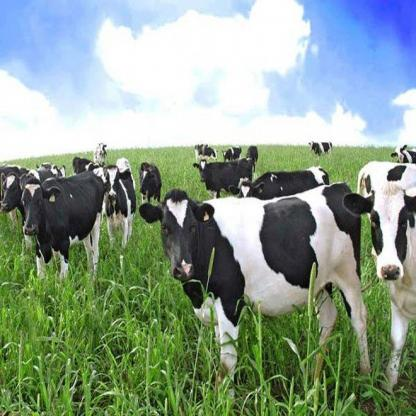cow: (139, 180, 374, 403), (341, 159, 416, 393), (19, 169, 106, 286), (0, 168, 65, 252), (230, 167, 330, 201), (102, 156, 136, 248), (192, 158, 256, 200), (139, 160, 163, 206), (71, 154, 102, 174), (194, 142, 220, 161), (389, 145, 416, 163), (308, 140, 334, 157), (221, 144, 243, 164), (92, 142, 108, 166), (245, 144, 260, 164)
